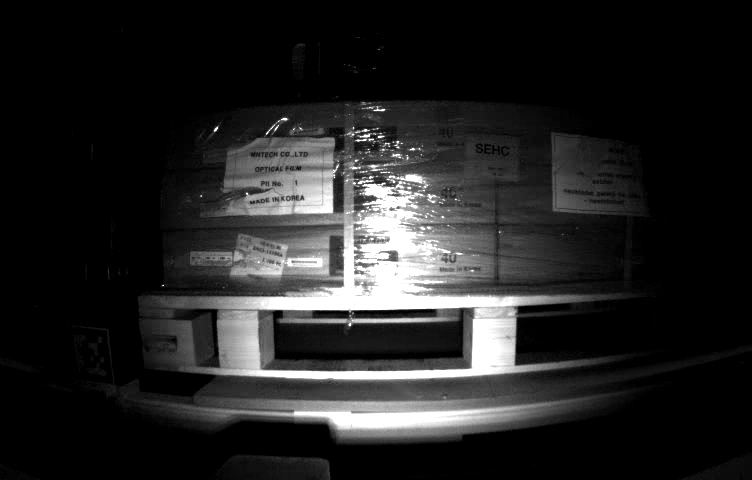True Barcode: (233, 231, 282, 290)
